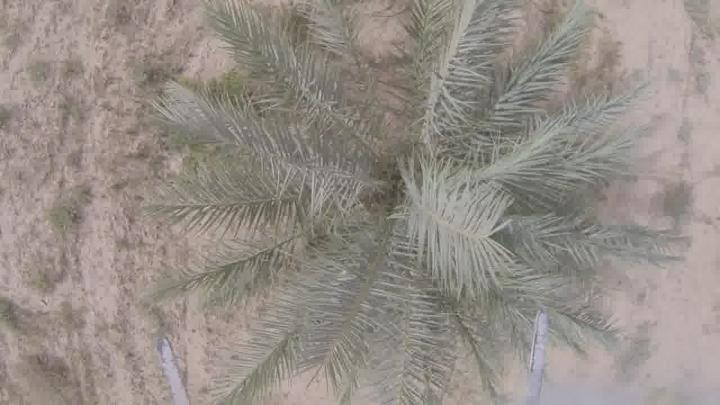Date-Palm-Crown: (254, 57, 556, 337)
